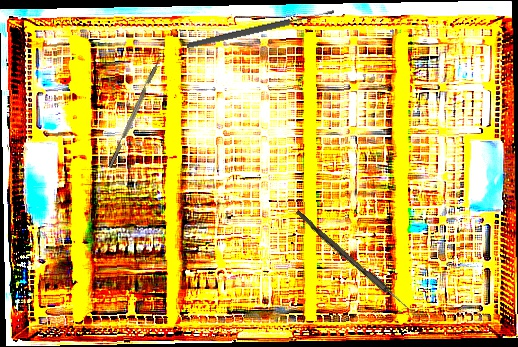Chopper: (102, 48, 166, 169)
Surgical Spoon: (293, 210, 422, 320), (186, 8, 335, 50)
